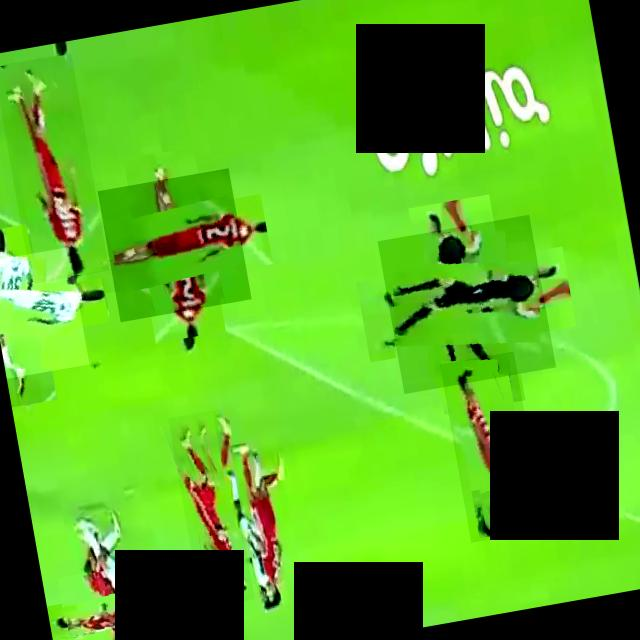referee: (376, 214, 555, 392)
soccer-player: (0, 51, 108, 282), (96, 167, 250, 321), (438, 350, 544, 541), (166, 408, 254, 607), (0, 245, 87, 377), (55, 561, 155, 640)
